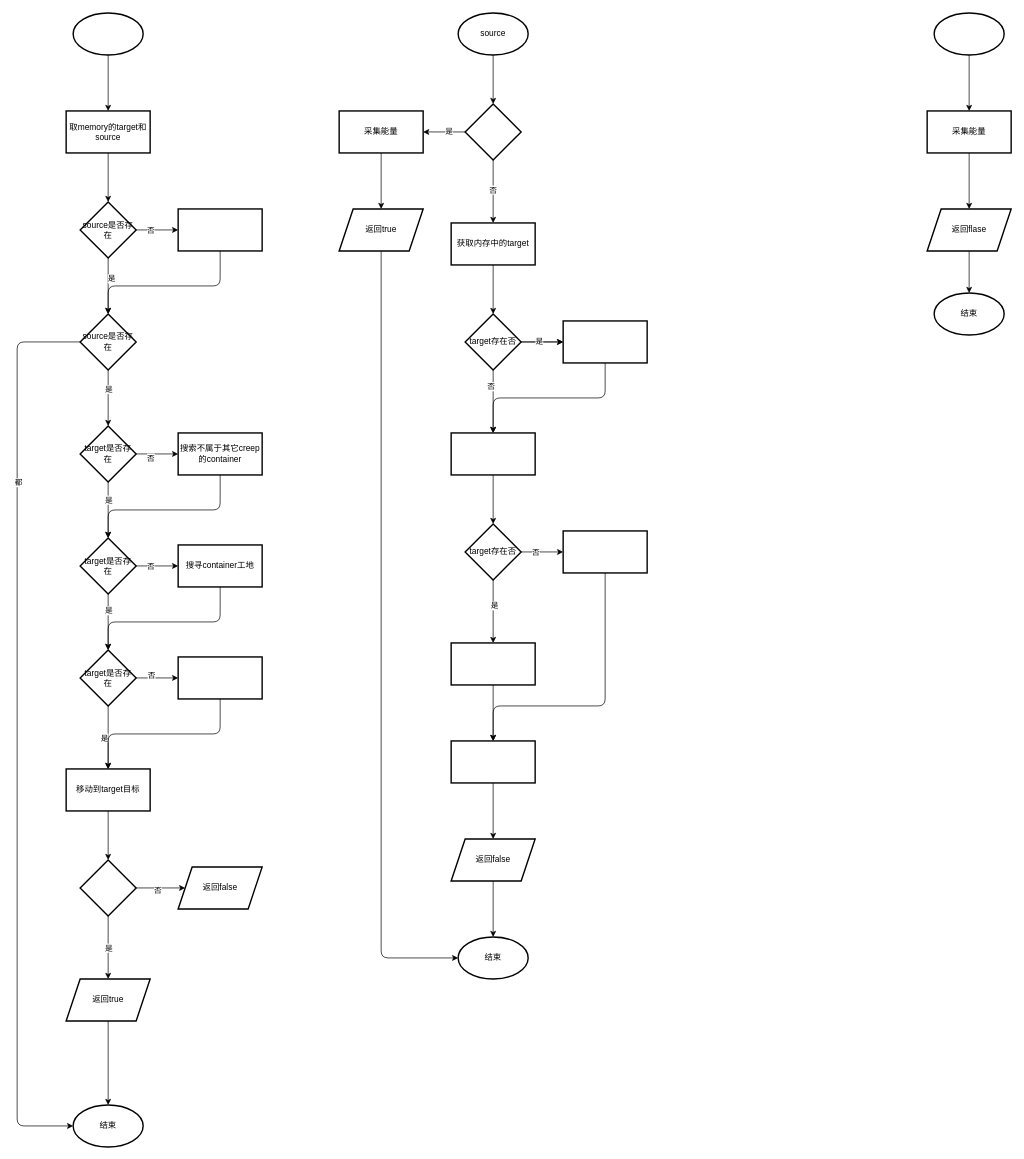
Image size: 1024x1159. Some labels were removed from this diagram. The shapes that lost their labels are listed below. From the top down, each one's centre as x and y in pixels, then its label:
At point 108,33: "prepare".
At point 968,33: "target".
At point 493,131: "能量是否为0".
At point 219,229: "搜寻不属于其它creep的souce".
At point 605,341: "修理container".
At point 493,453: "新建container工地".
At point 605,551: "建立完成了，重新缓存contianer".
At point 219,677: "以souce作为target".
At point 493,663: "将工地缓存到内存中".
At point 493,761: "修建container".
At point 107,887: "是否到达".
